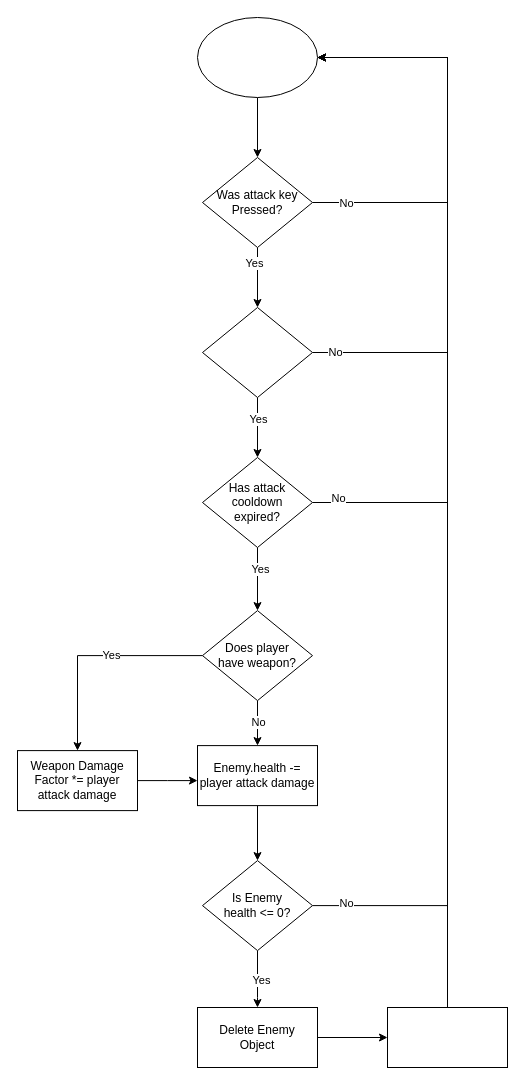
Some shapes in this 525 by 1085 pixel diagram are drawn without their labels. The shapes that lost their labels are listed below. From the top down, each one's centre as x and y in pixels, then its label:
[257,57]: Start
[257,352]: Is player in range of an enemy?
[447,1037]: Add experience points to Player level
